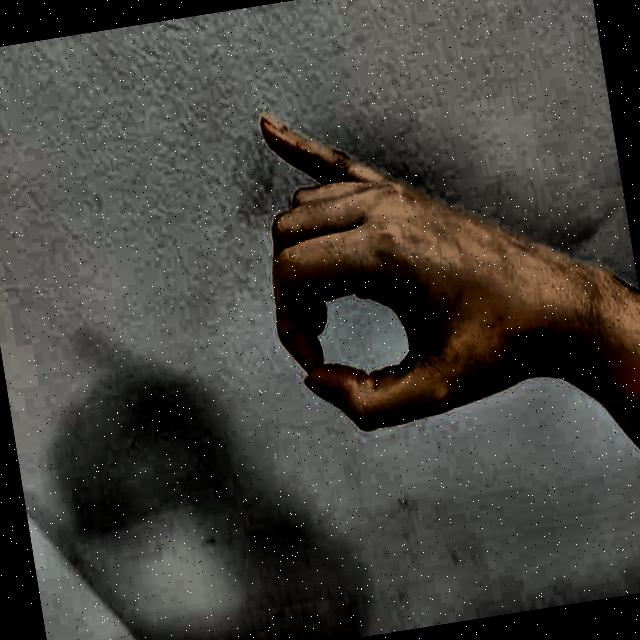Ou: (213, 47, 568, 488)
